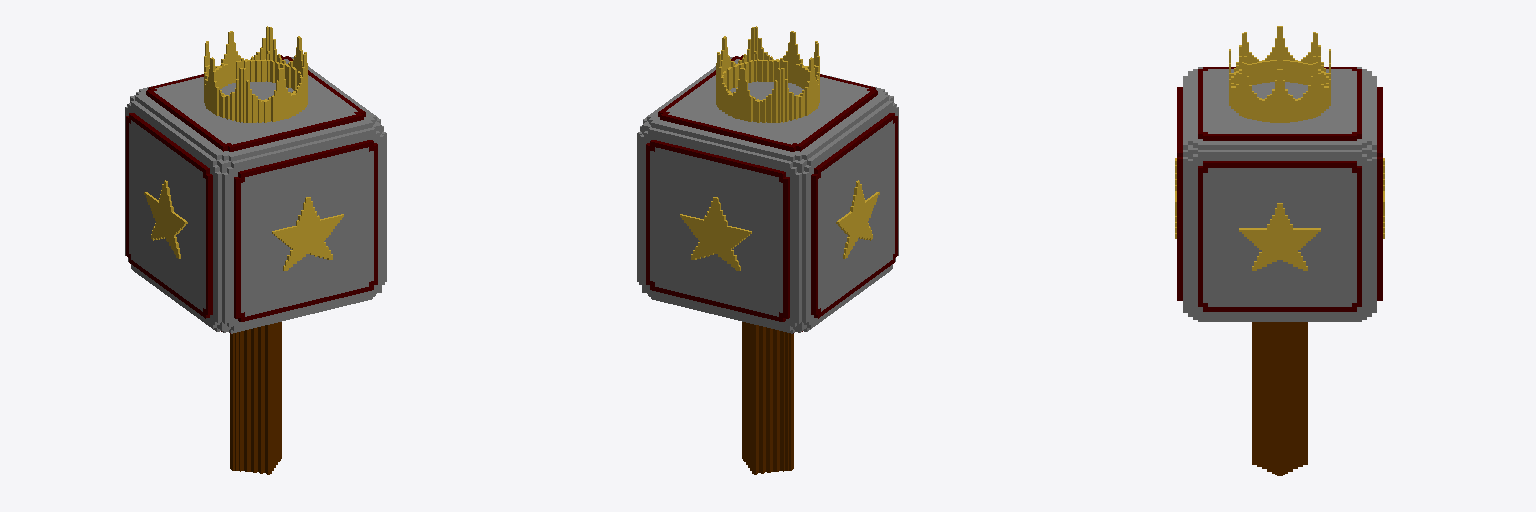
The picture shows the model from 3 angles: view 1: azimuth 30°, elevation 25°; view 2: azimuth 150°, elevation 25°; view 3: azimuth 270°, elevation 25°; orthographic projection.
Visible parts, largest first — view 1: object 1; view 2: object 1; view 3: object 1.
Boxes of the visible parts, <box> form: object 1: <box>125,26,386,474</box>; object 1: <box>637,26,898,474</box>; object 1: <box>1175,26,1384,475</box>.
Bounding box in the file's own units: 8.2 × 17.9 × 8.2.
Materials: 1 (1 with a texture image).